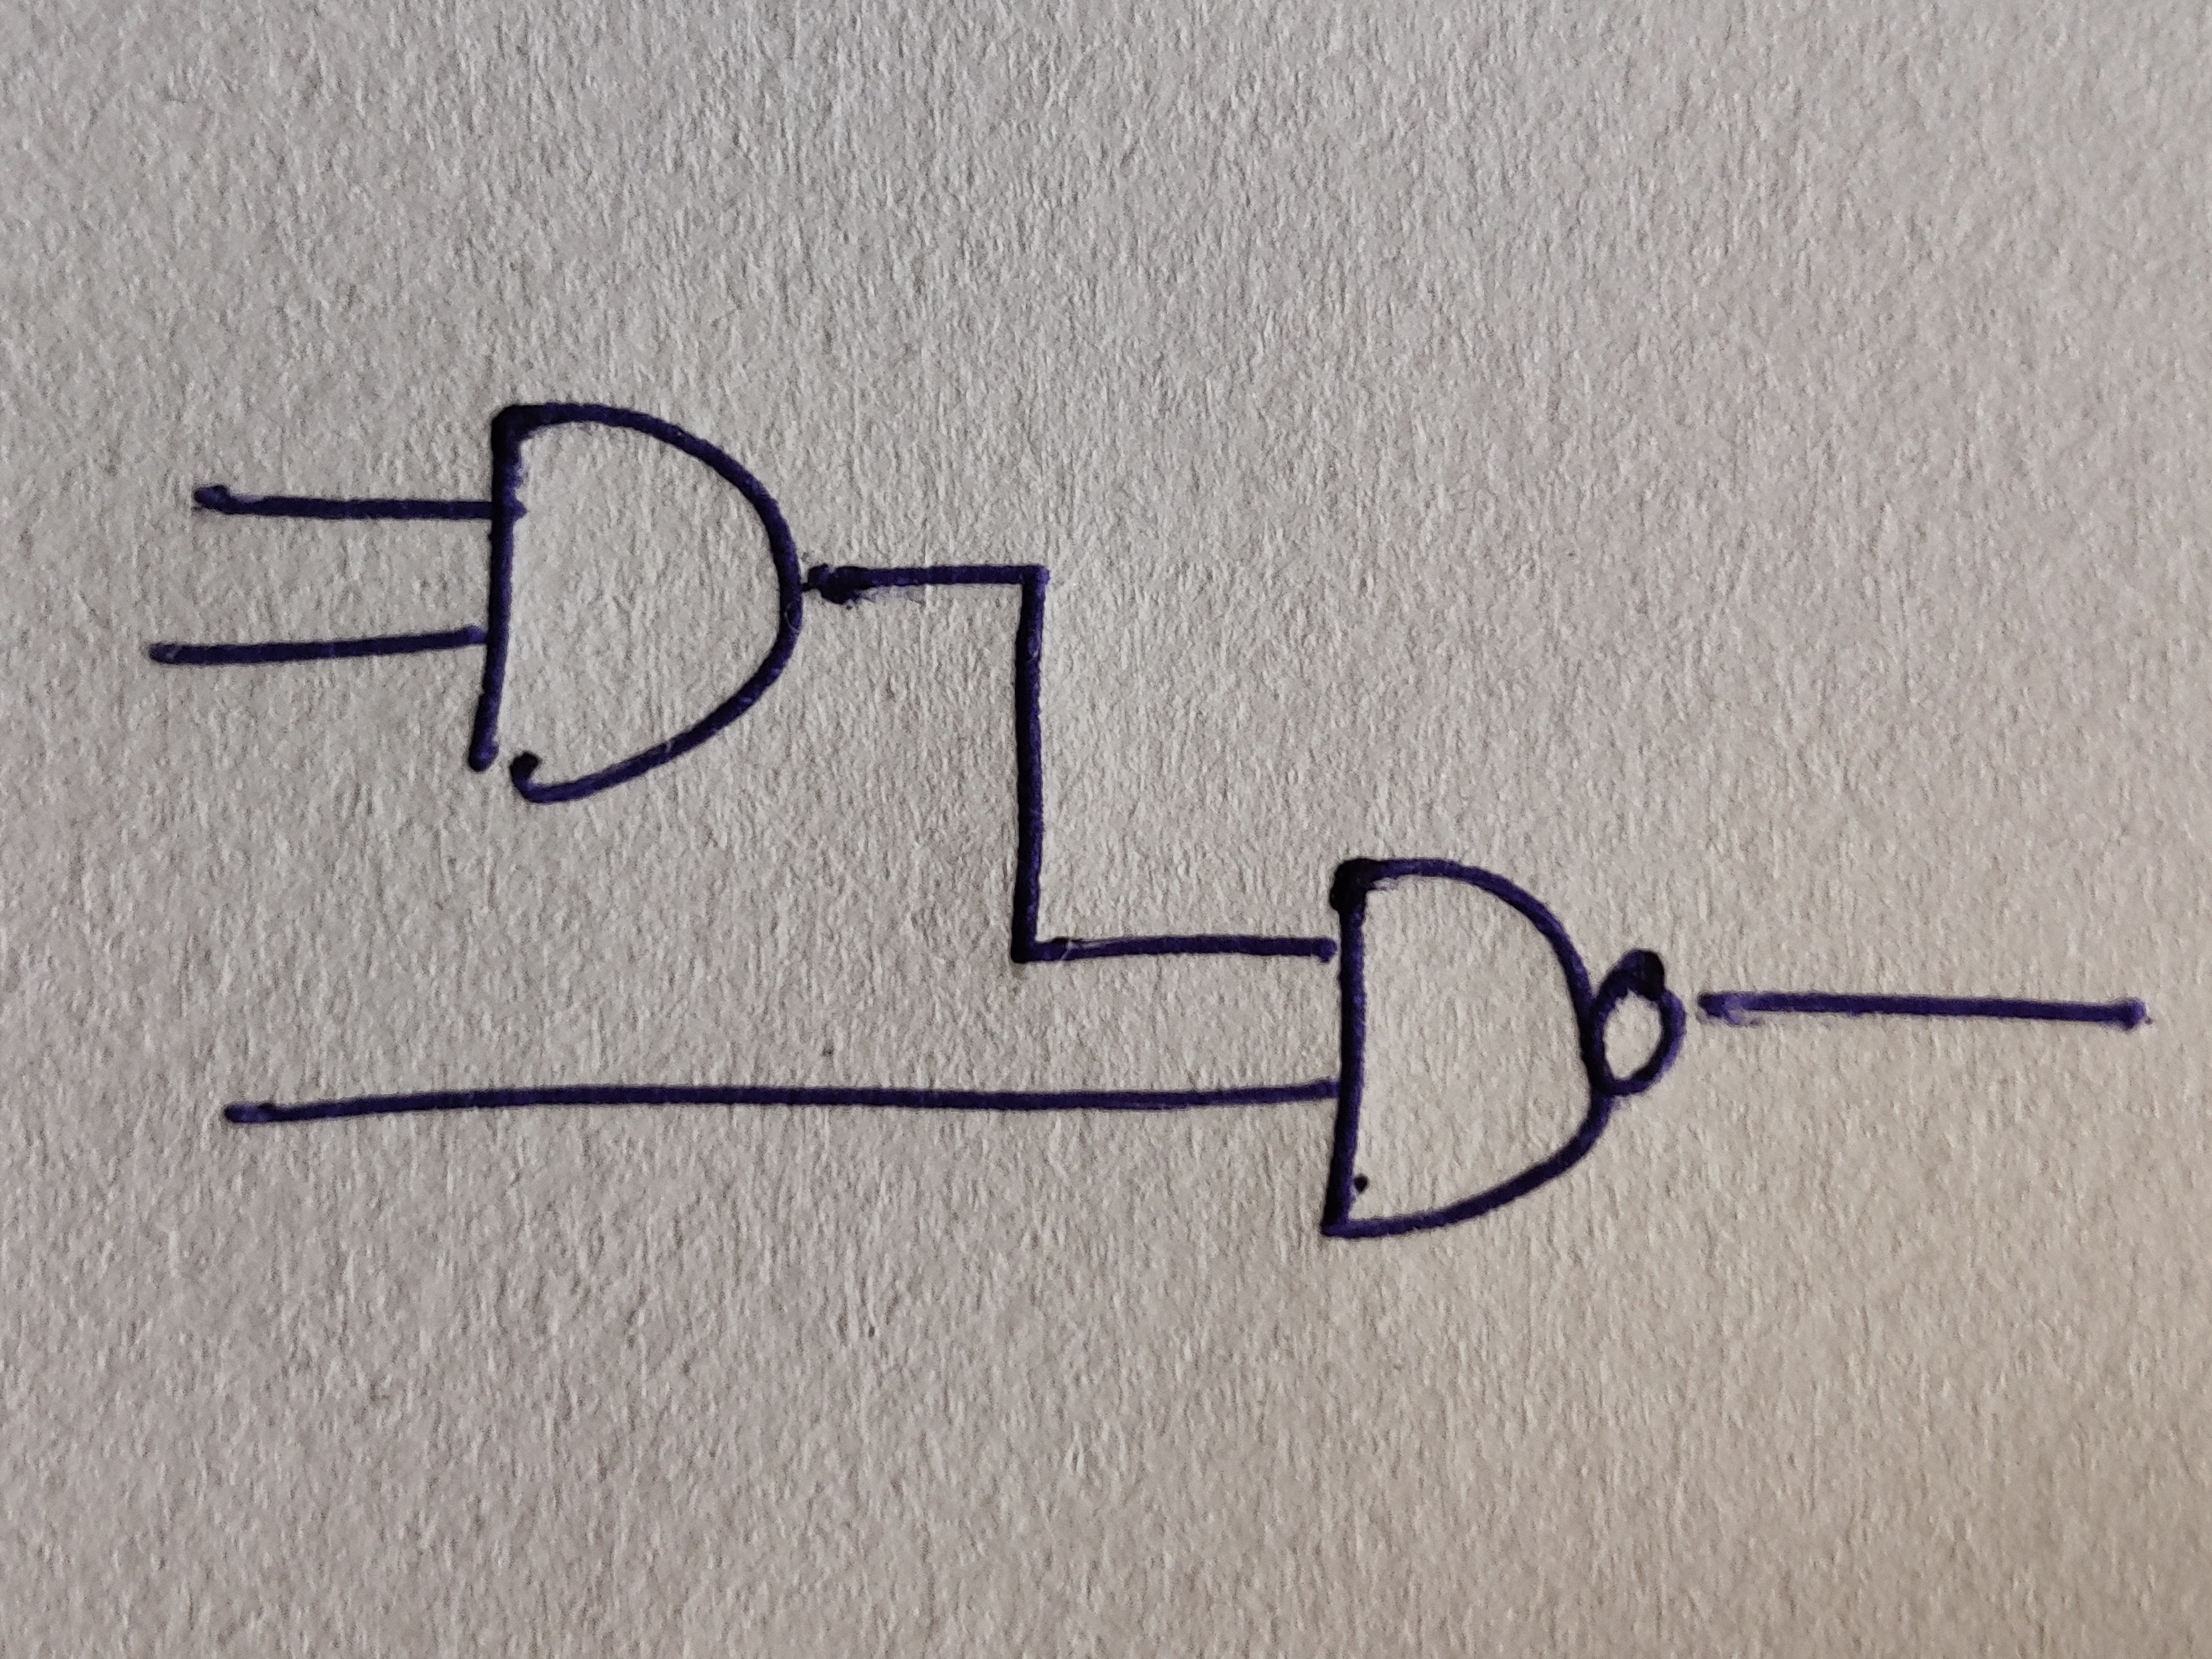and: (469, 403, 801, 807), (1318, 857, 1613, 1239)
not: (1595, 948, 1688, 1100)
